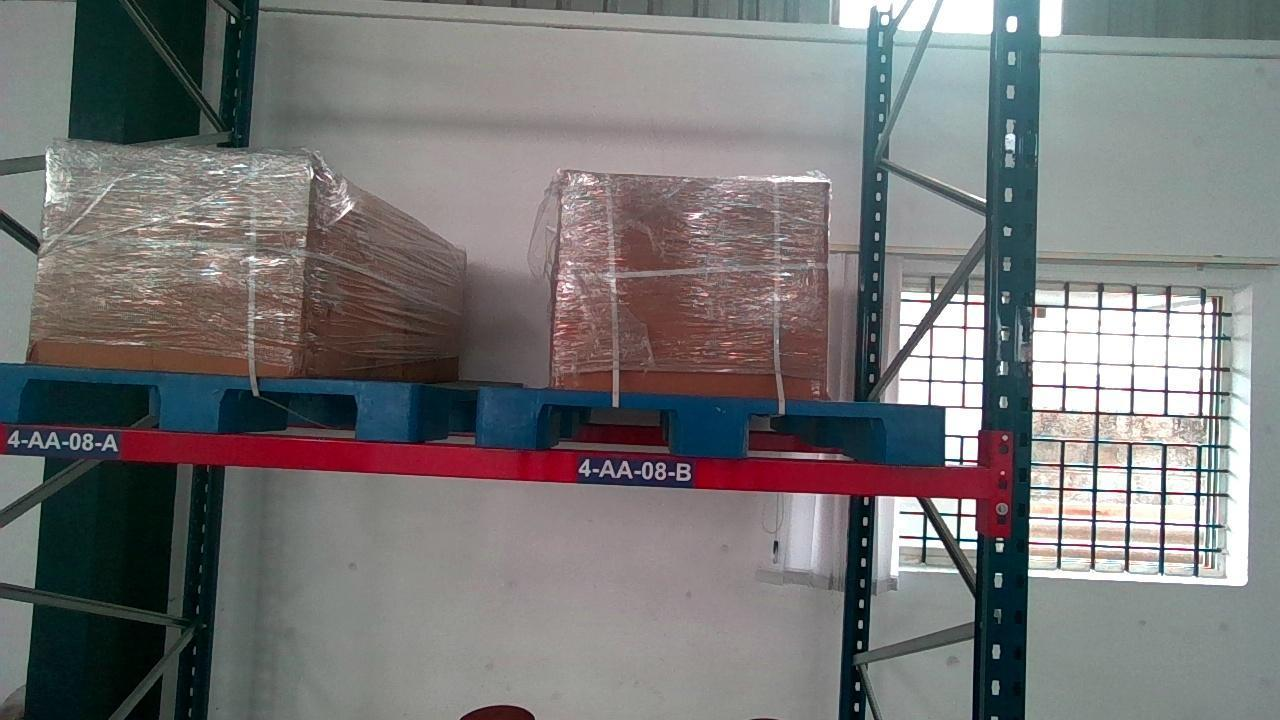h_rack: (6, 427, 998, 502)
small_pallet: (478, 393, 945, 455), (0, 370, 414, 435)
